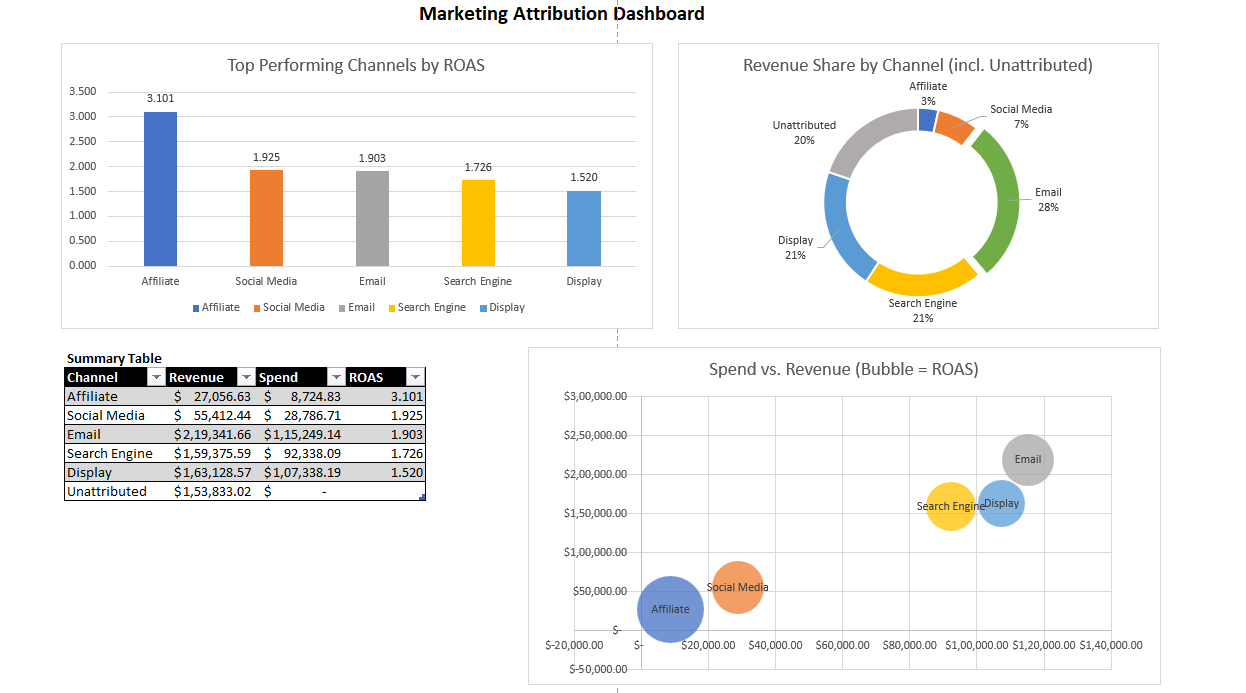

This screenshot's page, from the dashboard's own definition file:
{"tool":"powerbi","page":{"name":"Page 1","canvas":[1280,720],"ordinal":0},"visuals":[{"type":"clusteredColumnChart","title":"ROAS by Channel","fields":{"Category":["Channel_ROAS.channel"],"Y":["Sum(Channel_ROAS.roas)"]},"box":[0,190.3,487.6,268.7],"z":0},{"type":"donutChart","title":"Revenue Contribution by Channel","fields":{"Category":["Channel_ROAS.channel"],"Y":["Sum(Channel_ROAS.total_revenue)"]},"box":[498.8,190.3,435.4,250],"z":1000},{"type":"scatterChart","title":"Spend vs. Revenue by Channel","fields":{"X":["Channel_ROAS.total_spend"],"Y":["Channel_ROAS.total_revenue"],"Size":["Sum(Channel_ROAS.roas)"],"Series":["Channel_ROAS.channel"]},"box":[0,471.5,435.4,248.8],"z":2000},{"type":"tableEx","fields":{"Values":["Channel_ROAS.channel","Channel_ROAS.total_revenue","Channel_ROAS.total_spend","Channel_ROAS.roas"]},"box":[498.8,471.5,324.7,201.5],"z":3000},{"type":"cardVisual","fields":{"Data":["Campaign_ROAS.Total Revenue"]},"box":[0,0,434.1,179.1],"z":4000},{"type":"cardVisual","fields":{"Data":["Campaign_ROAS.Total Spend"]},"box":[487.6,0,420.5,179.1],"z":5000},{"type":"cardVisual","fields":{"Data":["Campaign_ROAS.Blended ROAS"]},"box":[952.9,0,324.7,179.1],"z":6000},{"type":"tableEx","fields":{"Values":["Campaign_ROAS.Campaign ID","Campaign_ROAS.Channel","Campaign_ROAS.ROAS"]},"box":[952.9,190.3,256.3,529.9],"z":7000}]}

Visuals, with their boxes in screenshot pixels (x1, y1, x2, y2), scaled from the page's 1280x720 canvas onto the 1246x693 screenshot:
"ROAS by Channel" clusteredColumnChart: 0,183,475,442
"Revenue Contribution by Channel" donutChart: 486,183,909,424
"Spend vs. Revenue by Channel" scatterChart: 0,454,424,692
tableEx - Channel_ROAS.channel x Channel_ROAS.total_revenue: 486,454,802,648
cardVisual - Campaign_ROAS.Total Revenue: 0,0,423,172
cardVisual - Campaign_ROAS.Total Spend: 475,0,884,172
cardVisual - Campaign_ROAS.Blended ROAS: 928,0,1244,172
tableEx - Campaign_ROAS.Campaign ID x Campaign_ROAS.Channel: 928,183,1177,692
